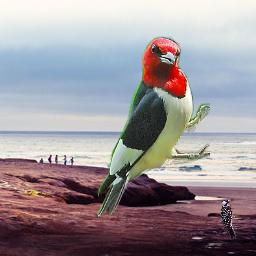Woodpecker: (92, 36, 210, 217), (221, 199, 236, 241)
